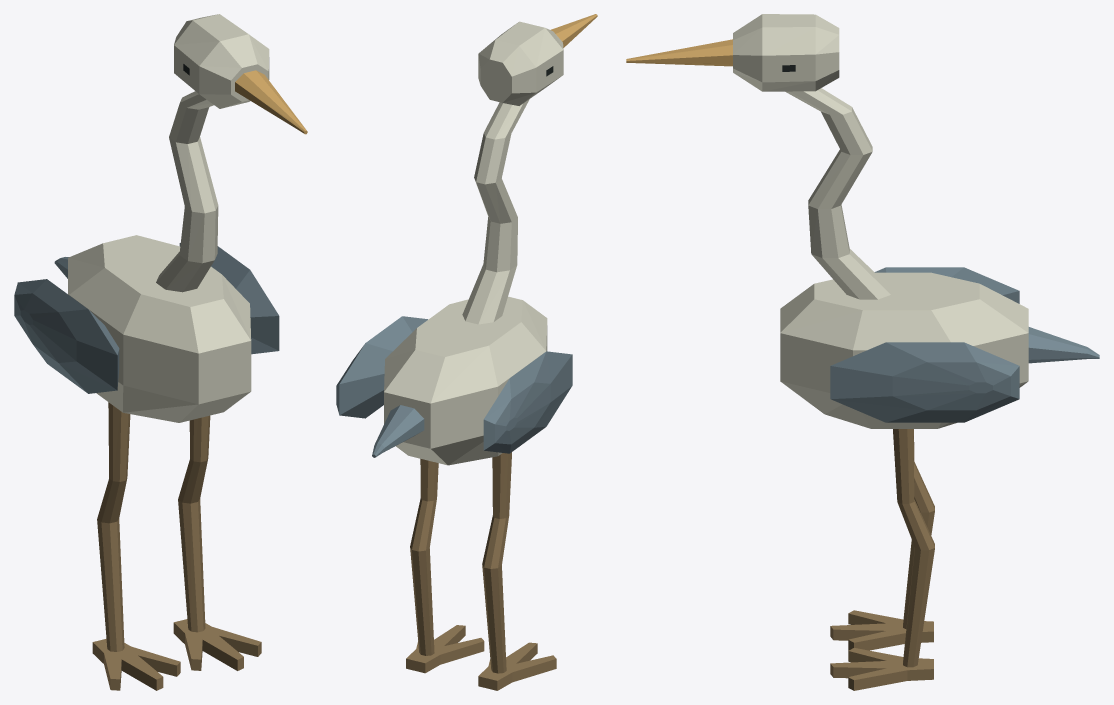
3 views of the same model, side by side, from view 1: azimuth 30°, elevation 25°; view 2: azimuth 150°, elevation 25°; view 3: azimuth 270°, elevation 25° (orthographic). The views are drawn at different scales.
Visible parts, largest first — view 1: RaisedFacetedTorso, LeftCompleteFoldedWing, WholeLongSCurveNeck, SmallHead_IntegralEyes, LeftWholeSlenderBentLeg, RightWholeSlenderBentLeg, RightCompleteFoldedWing, LeftThreeToedGroundFoot, RightThreeToedGroundFoot, LongTaperedBill; view 2: RaisedFacetedTorso, WholeLongSCurveNeck, LeftCompleteFoldedWing, SmallHead_IntegralEyes, LeftWholeSlenderBentLeg, RightCompleteFoldedWing, RightWholeSlenderBentLeg, LeftThreeToedGroundFoot, RightThreeToedGroundFoot, ShortTaperedTail, LongTaperedBill; view 3: RaisedFacetedTorso, RightCompleteFoldedWing, WholeLongSCurveNeck, SmallHead_IntegralEyes, RightWholeSlenderBentLeg, RightThreeToedGroundFoot, LeftThreeToedGroundFoot, LongTaperedBill, ShortTaperedTail, LeftCompleteFoldedWing, LeftWholeSlenderBentLeg.
Part boxes in pixels (bbox=[...]): RaisedFacetedTorso: bbox=[68, 235, 251, 422]; LeftCompleteFoldedWing: bbox=[14, 279, 119, 393]; WholeLongSCurveNeck: bbox=[156, 91, 218, 292]; SmallHead_IntegralEyes: bbox=[174, 14, 269, 108]; LeftWholeSlenderBentLeg: bbox=[97, 402, 130, 651]; RightWholeSlenderBentLeg: bbox=[178, 415, 210, 632]; RightCompleteFoldedWing: bbox=[179, 243, 279, 354]; LeftThreeToedGroundFoot: bbox=[92, 638, 180, 690]; RightThreeToedGroundFoot: bbox=[173, 619, 261, 670]; LongTaperedBill: bbox=[235, 70, 307, 134]; RaisedFacetedTorso: bbox=[384, 296, 547, 465]; WholeLongSCurveNeck: bbox=[462, 99, 529, 324]; LeftCompleteFoldedWing: bbox=[483, 351, 572, 453]; SmallHead_IntegralEyes: bbox=[478, 21, 563, 105]; LeftWholeSlenderBentLeg: bbox=[482, 452, 511, 673]; RightCompleteFoldedWing: bbox=[336, 316, 427, 418]; RightWholeSlenderBentLeg: bbox=[410, 458, 438, 655]; LeftThreeToedGroundFoot: bbox=[478, 642, 556, 690]; RightThreeToedGroundFoot: bbox=[406, 625, 484, 673]; ShortTaperedTail: bbox=[372, 405, 424, 457]; LongTaperedBill: bbox=[551, 14, 597, 47]; RaisedFacetedTorso: bbox=[780, 272, 1028, 428]; RightCompleteFoldedWing: bbox=[830, 342, 1019, 422]; WholeLongSCurveNeck: bbox=[785, 88, 890, 299]; SmallHead_IntegralEyes: bbox=[733, 14, 839, 91]; RightWholeSlenderBentLeg: bbox=[893, 429, 934, 667]; RightThreeToedGroundFoot: bbox=[830, 648, 933, 690]; LeftThreeToedGroundFoot: bbox=[830, 610, 933, 650]; LongTaperedBill: bbox=[626, 39, 732, 66]; ShortTaperedTail: bbox=[1028, 327, 1099, 363]; LeftCompleteFoldedWing: bbox=[874, 267, 1019, 303]; LeftWholeSlenderBentLeg: bbox=[903, 429, 934, 628].
Size of the model in its own units: 0.684 by 2.37 by 1.6.
